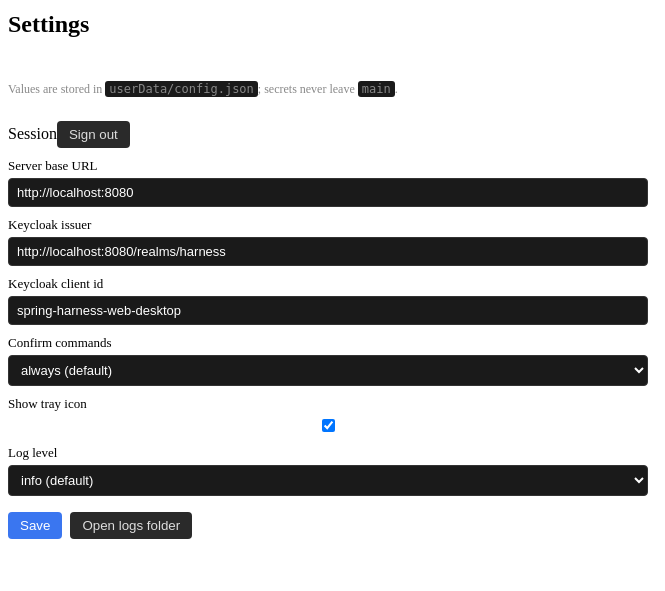
Test: SettingsView › sends a structured-cloneable payload over IPC
Click the button with test id "save": (35, 525) top-left (8, 512), bottom-right (62, 539)
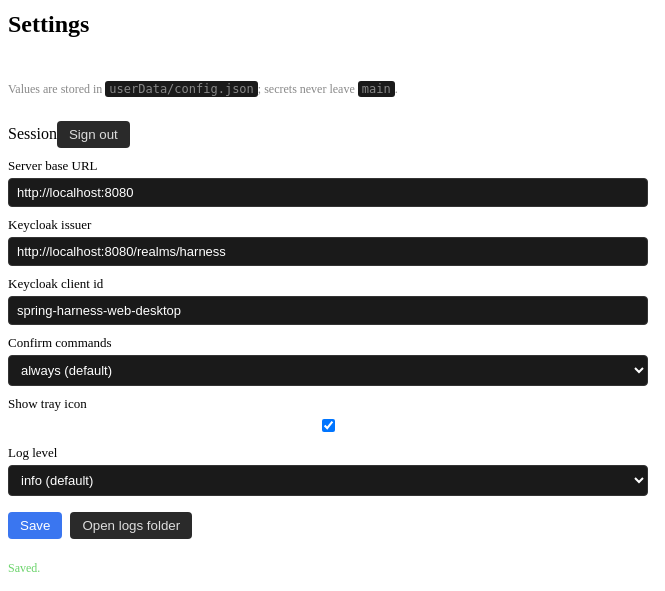
Check: the text "Saved." is shown, box top-left (8, 561), bottom-right (40, 575)
